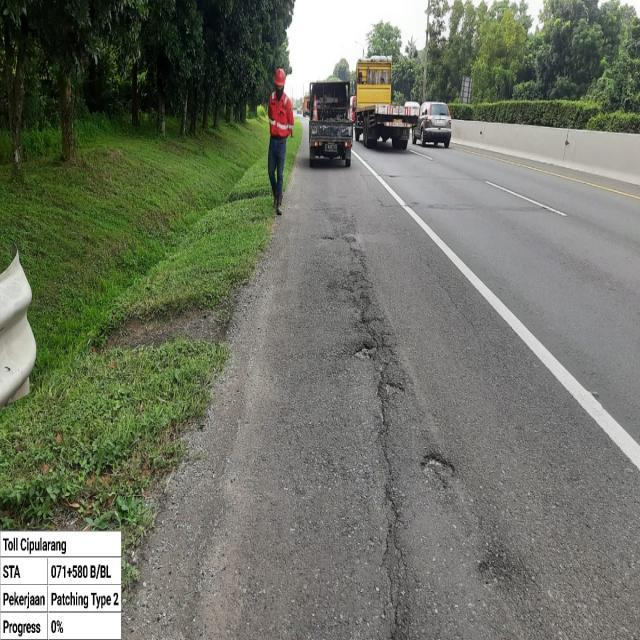Buraco: (418, 450, 458, 493), (348, 342, 381, 364), (376, 379, 408, 401), (316, 235, 336, 243)
